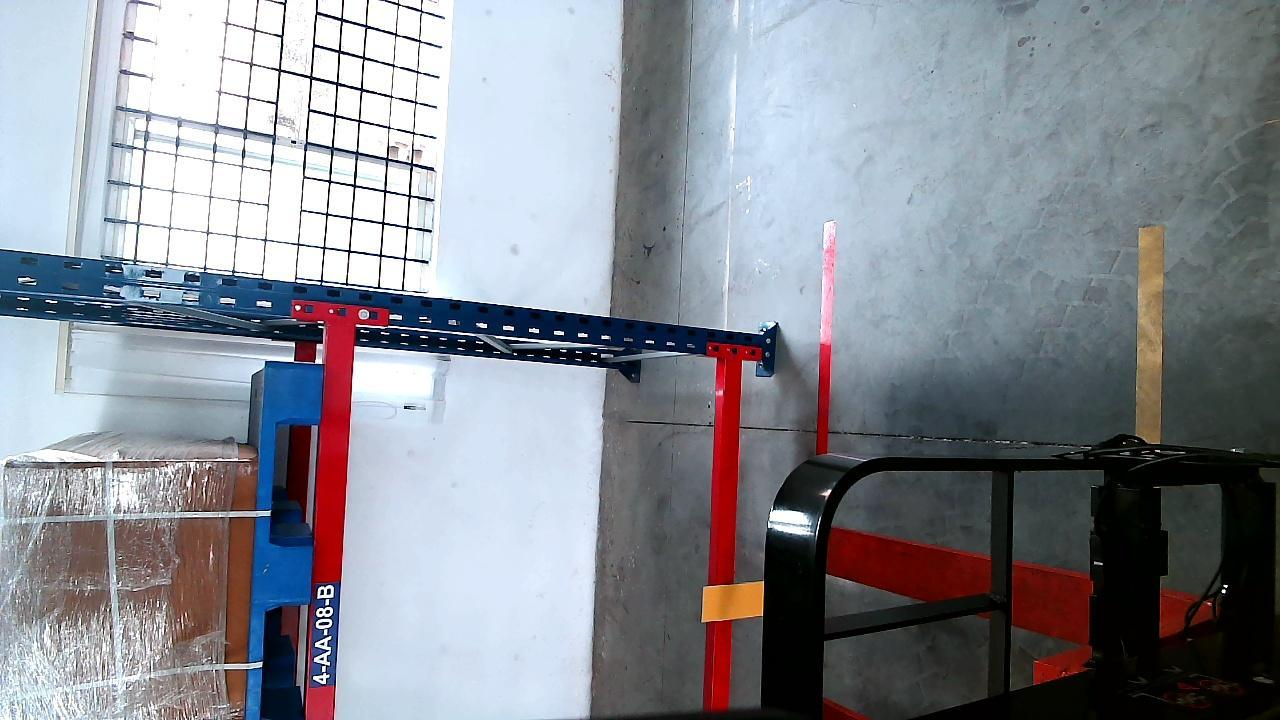red_line: (816, 223, 837, 455)
yellow_line: (1137, 219, 1163, 447)
